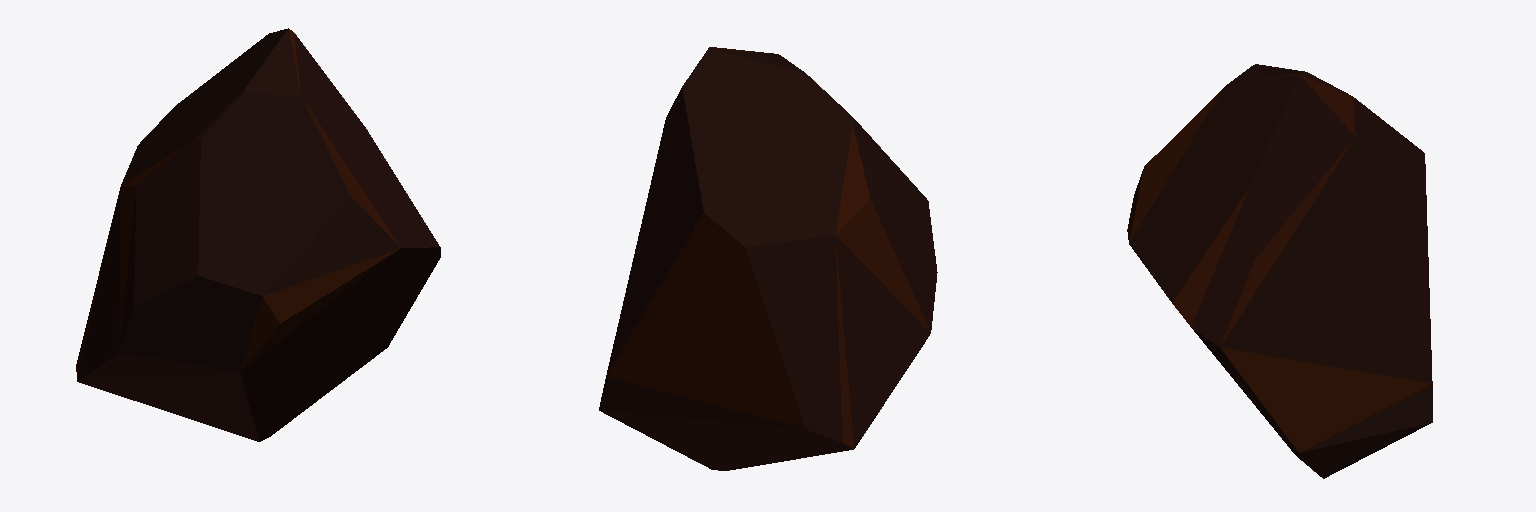
File: Asteroid1.obj
The picture shows the model from 3 angles: view 1: azimuth 30°, elevation 25°; view 2: azimuth 150°, elevation 25°; view 3: azimuth 270°, elevation 25°; orthographic projection.
Visible parts, largest first — view 1: Asteroid_3.018_Icosphere_cell.063; view 2: Asteroid_3.018_Icosphere_cell.063; view 3: Asteroid_3.018_Icosphere_cell.063.
Part boxes in pixels (x1,y1,x2,y2): Asteroid_3.018_Icosphere_cell.063: (76, 28, 440, 441); Asteroid_3.018_Icosphere_cell.063: (599, 47, 937, 470); Asteroid_3.018_Icosphere_cell.063: (1127, 64, 1432, 478).
Size of the model in its own units: 2.06 by 2.71 by 1.81.